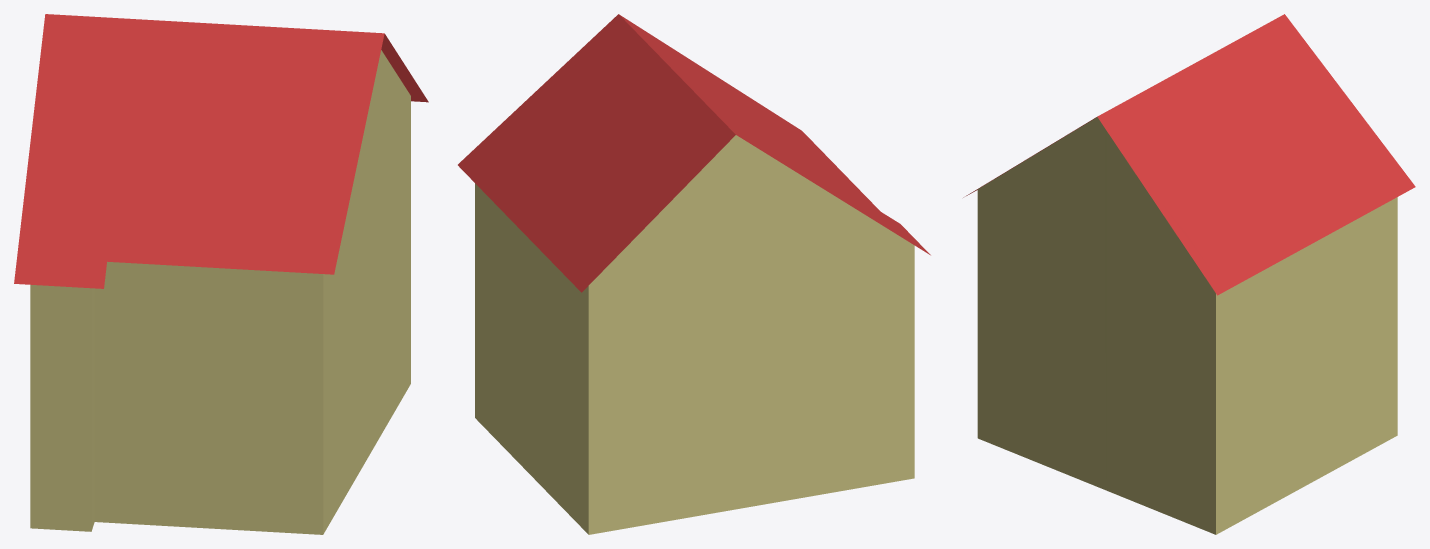
3 views of the same model, side by side, from view 1: azimuth 30°, elevation 25°; view 2: azimuth 150°, elevation 25°; view 3: azimuth 270°, elevation 25° (orthographic). The views are drawn at different scales.
Size of the model in its own units: 18.7 by 17.51 by 16.02.
